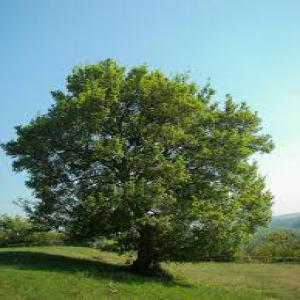Tree: (0, 57, 283, 276)
